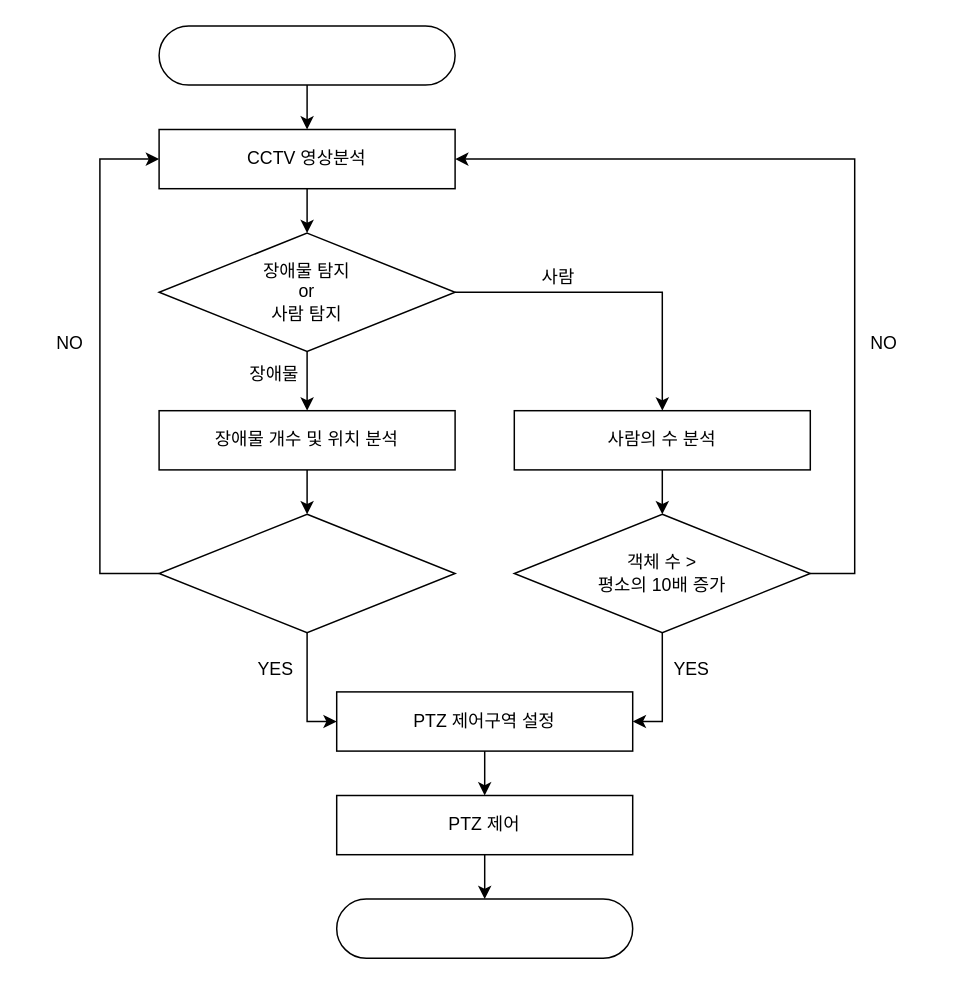
This 953x984 diagram has some shape labels left out. The shapes that lost their labels are listed below. From the top down, each one's box as (x1, y1, x2, y2) in pixels, then its label:
(158, 24, 455, 85): 시 작
(158, 513, 455, 633): 장애물 개수 및 위치 변화
(335, 898, 633, 958): 종료
